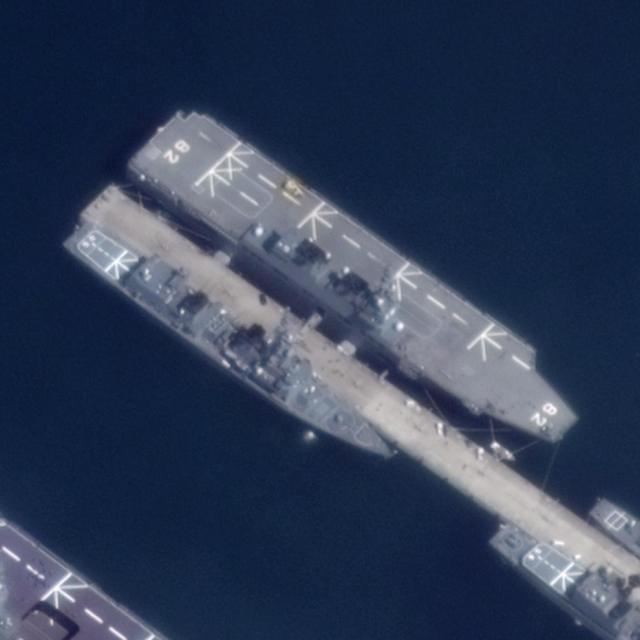Destroyer: (125, 98, 601, 468), (58, 181, 424, 480)
